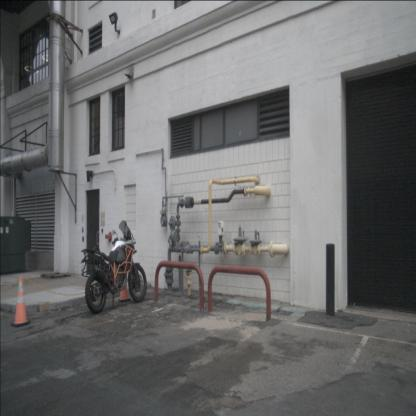cone: (10, 276, 30, 328), (118, 257, 132, 304)
